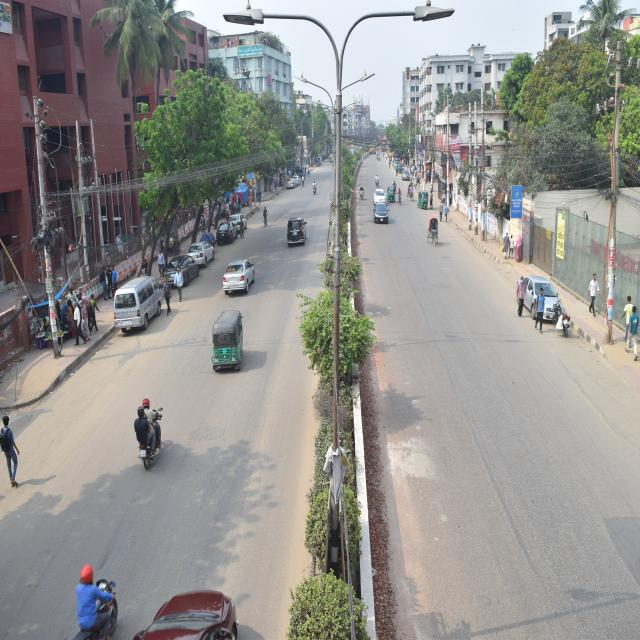car: (518, 272, 563, 324), (162, 256, 202, 294), (189, 236, 216, 277), (228, 205, 249, 242), (213, 220, 240, 248), (370, 199, 392, 227), (283, 173, 300, 192), (372, 184, 384, 203)
microbus: (107, 265, 170, 345), (284, 213, 309, 258)
motorbike: (58, 554, 129, 640), (120, 386, 168, 488), (546, 296, 578, 341), (310, 178, 320, 199), (357, 182, 366, 202), (374, 171, 380, 188)
